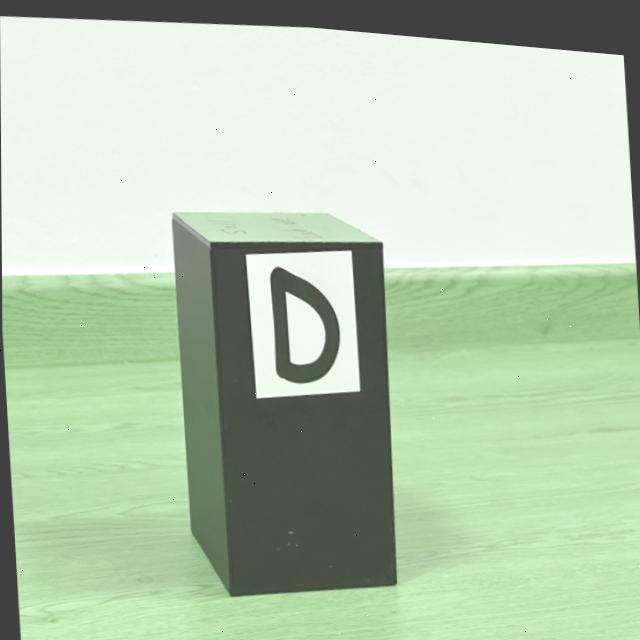D: (269, 261, 340, 379)
